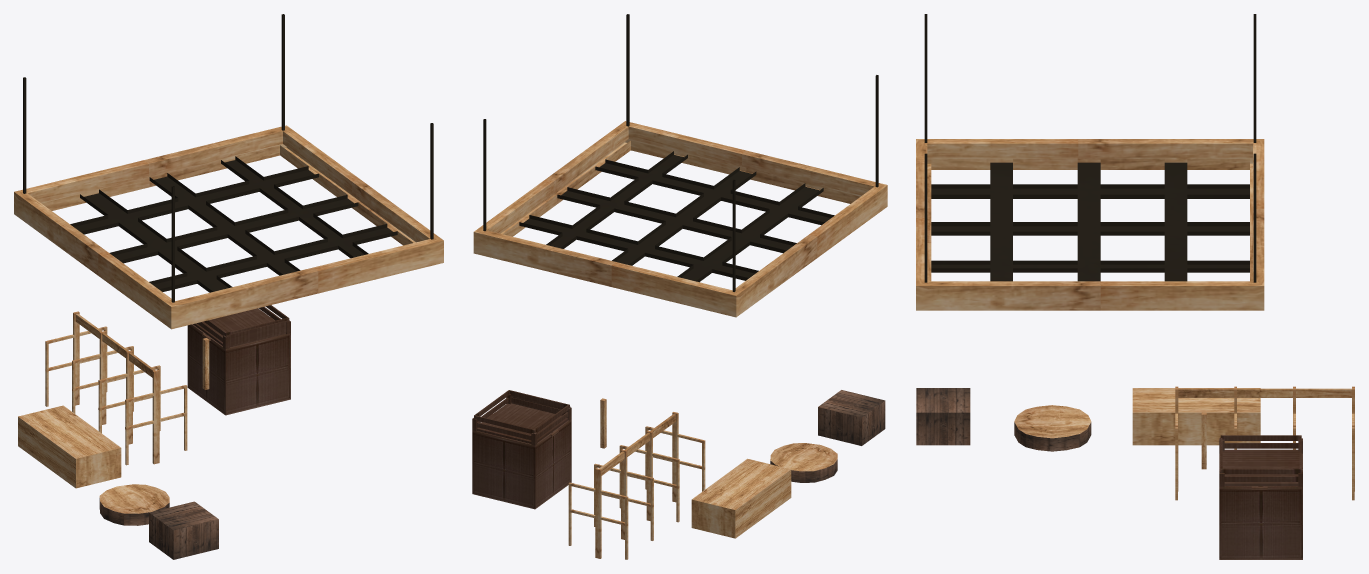
File: woodDetails2.fbx
3 views of the same model, side by side, from view 1: azimuth 30°, elevation 25°; view 2: azimuth 150°, elevation 25°; view 3: azimuth 270°, elevation 25° (orthographic). The views are drawn at different scales.
Visible parts, largest first — view 1: detailCeiling1, boxraft, woodBlockWide, woodStructure1, woodBlock1, woodbox2, woodBlock; view 2: detailCeiling1, boxraft, woodBlockWide, woodStructure1, woodbox2, woodBlock1, woodBlock; view 3: detailCeiling1, boxraft, woodBlockWide, woodbox2, woodBlock1, woodBlock, woodStructure1.
Part boxes in pixels (left/top/right/bottom): detailCeiling1: left=14, top=125, right=443, bottom=329; boxraft: left=187, top=317, right=290, bottom=415; woodBlockWide: left=18, top=405, right=121, bottom=488; woodStructure1: left=45, top=311, right=187, bottom=465; woodBlock1: left=149, top=501, right=218, bottom=559; woodbox2: left=193, top=305, right=289, bottom=347; woodBlock: left=99, top=484, right=169, bottom=525; detailCeiling1: left=473, top=121, right=887, bottom=317; boxraft: left=472, top=394, right=571, bottom=509; woodBlockWide: left=691, top=458, right=791, bottom=538; woodStructure1: left=568, top=412, right=705, bottom=559; woodbox2: left=474, top=390, right=570, bottom=443; woodBlock1: left=818, top=390, right=885, bottom=445; woodBlock: left=770, top=443, right=837, bottom=482; detailCeiling1: left=916, top=139, right=1264, bottom=310; boxraft: left=1219, top=438, right=1302, bottom=559; woodBlockWide: left=1132, top=388, right=1260, bottom=445; woodbox2: left=1220, top=435, right=1301, bottom=485; woodBlock1: left=916, top=388, right=970, bottom=445; woodBlock: left=1014, top=405, right=1091, bottom=451; woodStructure1: left=1175, top=386, right=1354, bottom=500.
Bounding box in the file's own units: 181 × 238 × 224.
